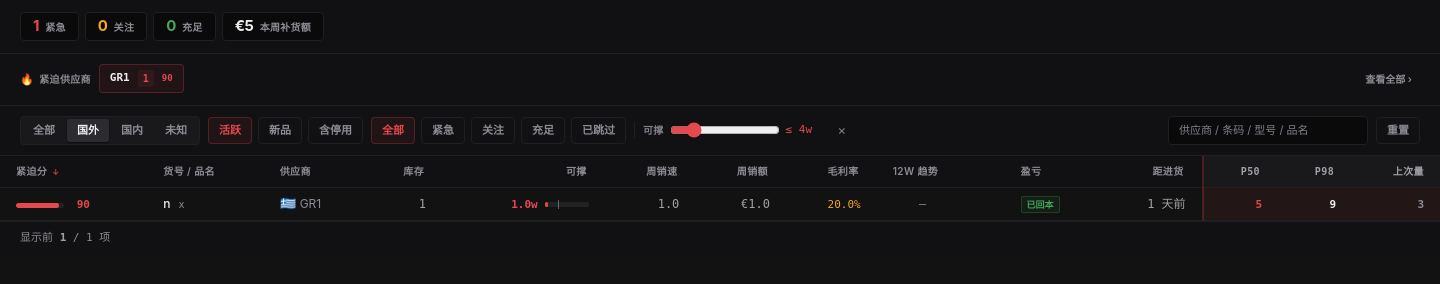
Scenario: RestockPage › 筛选变化收起已展开行
The image size is (1440, 284).
Click the button with class "rs-row": (720, 204) [0,187,1439,221]
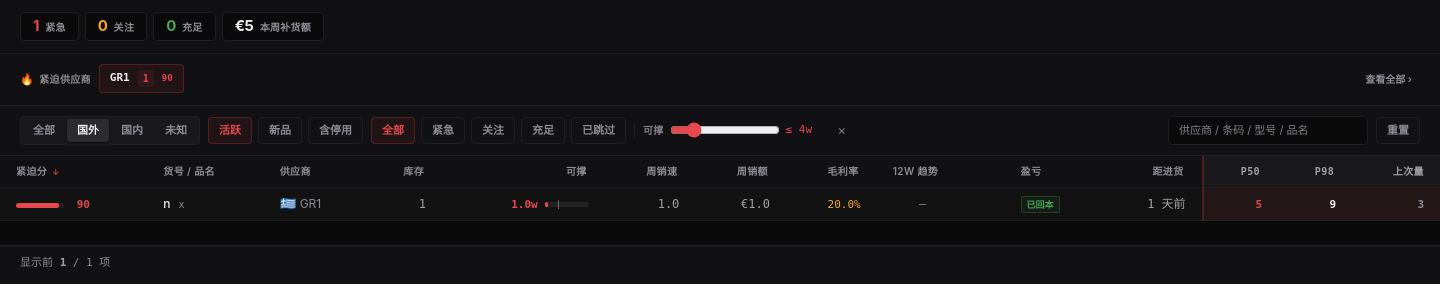
Expected: the number of rows with class "rs-drawer-row" is 1, [0,221,1439,246]
